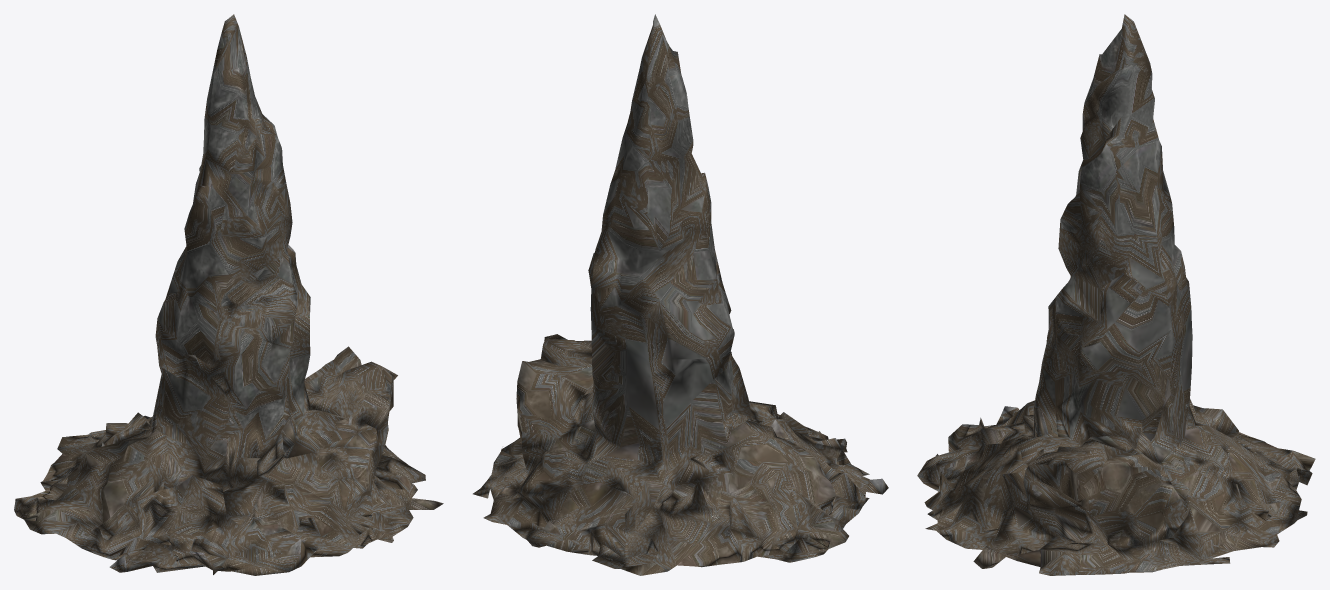
File: spiky-rock.glb
The picture shows the model from 3 angles, left to right: view 1: azimuth 30°, elevation 25°; view 2: azimuth 150°, elevation 25°; view 3: azimuth 270°, elevation 25°; orthographic projection. The views are drawn at different scales.
Size of the model in its own units: 1.48 by 1.9 by 1.42.
Materials: 1 (1 with a texture image).
